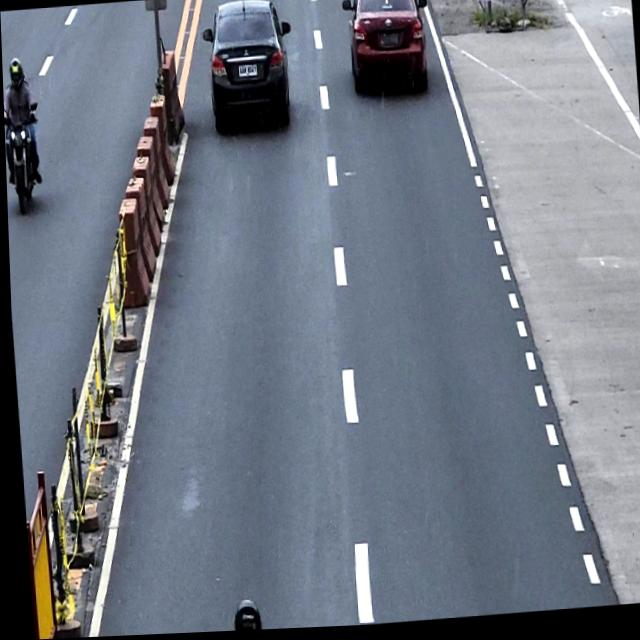Car: (199, 0, 296, 135), (340, 0, 431, 99)
License-Plate: (235, 63, 258, 80), (379, 34, 399, 51)
Motorcycle: (3, 97, 43, 215)
